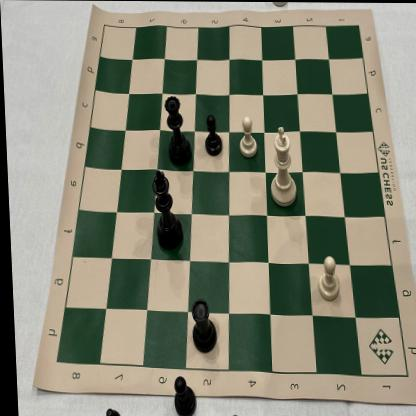black-king: (149, 168, 184, 252)
black-pawn: (200, 111, 225, 157)
black-queen: (161, 92, 193, 172)
black-rook: (185, 294, 215, 355)
white-king: (265, 124, 302, 210)
white-pawn: (310, 253, 342, 302), (235, 115, 260, 159)
